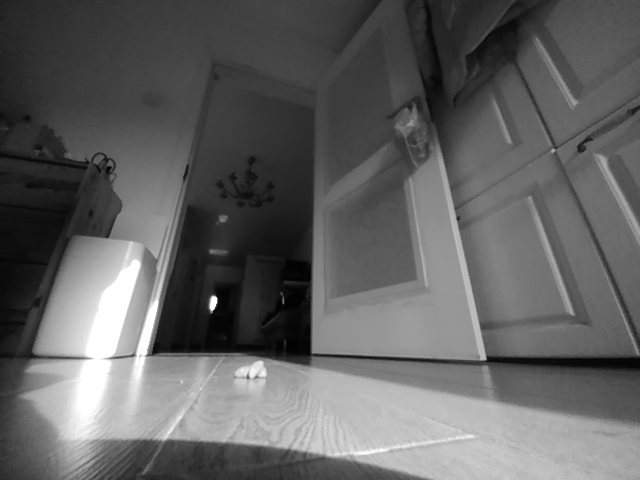pet feces: (233, 356, 269, 380)
